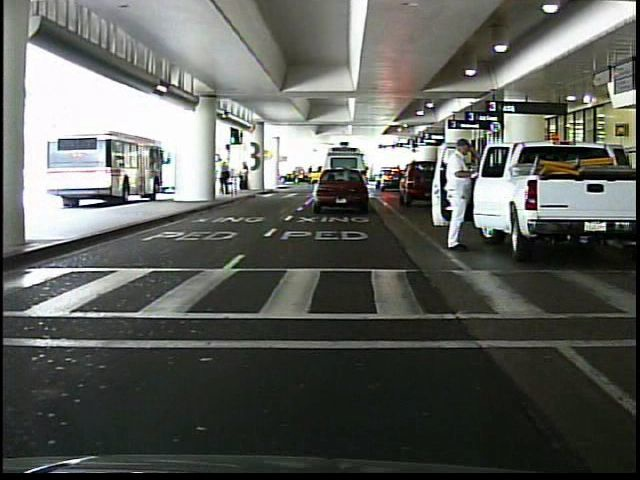person: (438, 134, 472, 254), (217, 156, 231, 199), (236, 163, 253, 196)
